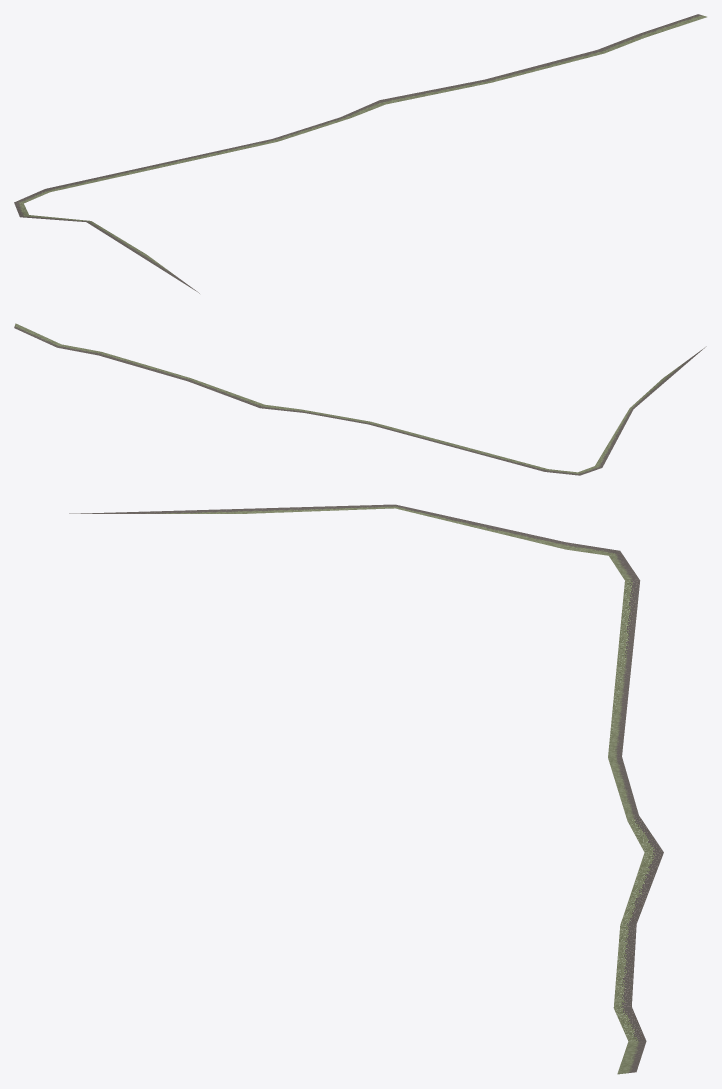
Rendered from kd_stage_135d18_4_133_bounded_piece_2.glb.
3 renders of one model, top to bottom at view 1: azimuth 30°, elevation 25°; view 2: azimuth 150°, elevation 25°; view 3: azimuth 270°, elevation 25°, orthographic. The views are drawn at different scales.
Parts seen in each view (by area): view 1: kd_stage_135d18_4_133_bounded_piece_2; view 2: kd_stage_135d18_4_133_bounded_piece_2; view 3: kd_stage_135d18_4_133_bounded_piece_2.
Boxes of the visible parts, box(x1,y1,x2,y2) form: kd_stage_135d18_4_133_bounded_piece_2: box(14, 14, 706, 293); kd_stage_135d18_4_133_bounded_piece_2: box(14, 323, 706, 475); kd_stage_135d18_4_133_bounded_piece_2: box(69, 504, 663, 1074).
Size of the model in its own units: 5.07 by 0.2067 by 2.32.
Materials: 1 (1 with a texture image).
